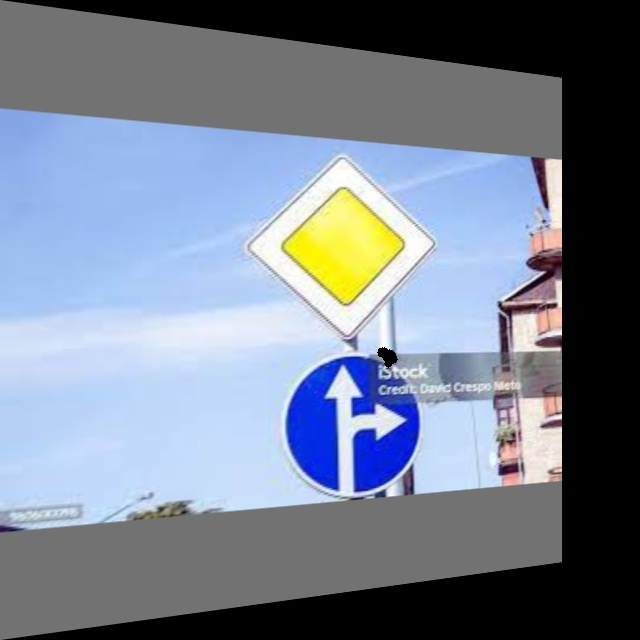Compulsory_Ahead_or_Turn_Right: (283, 352, 415, 497)
